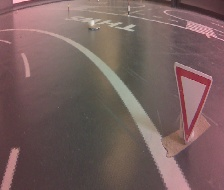give way sign: (174, 62, 213, 145)
